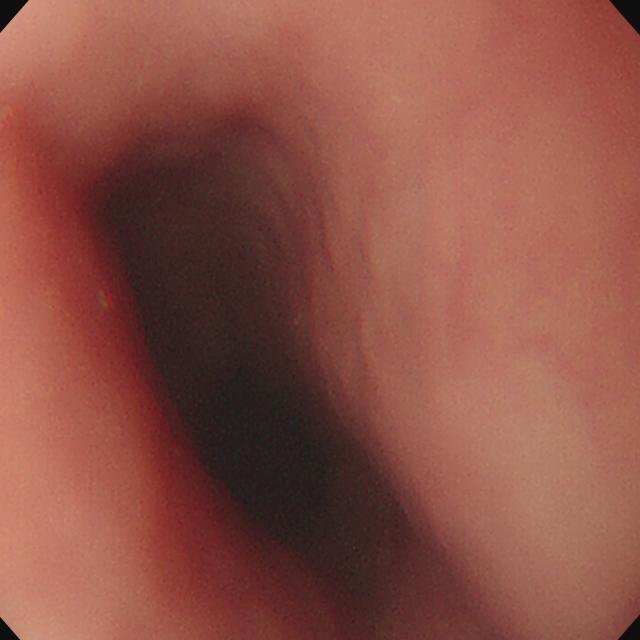E: (186, 338, 343, 534)
